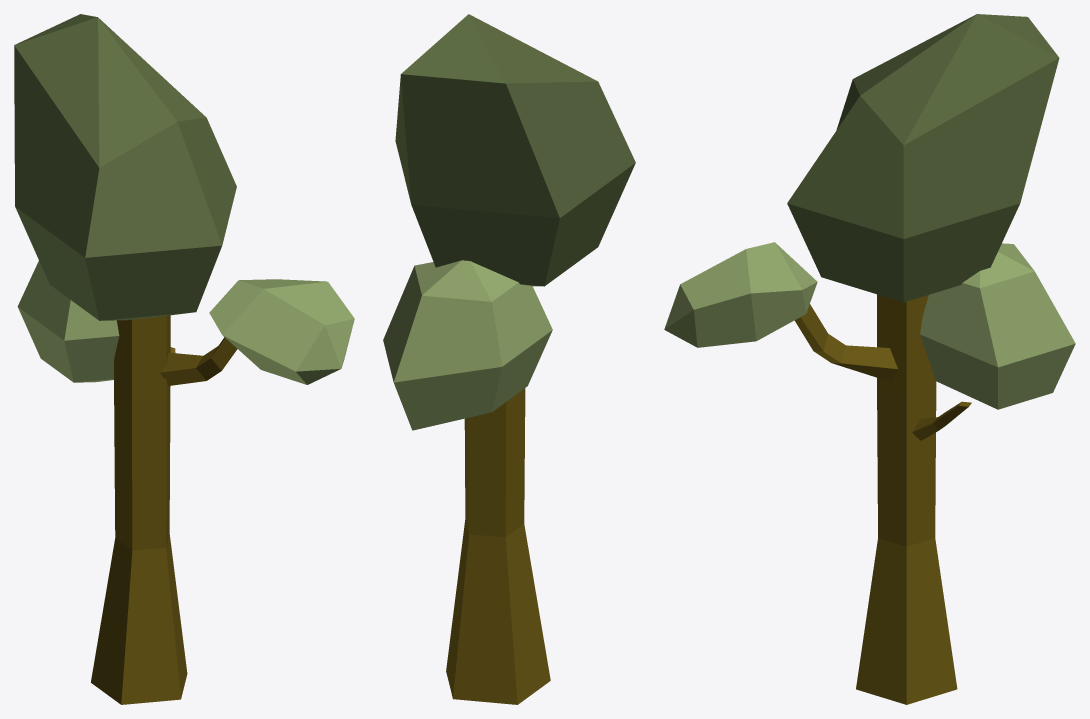
The model's file is Tree_01.fbx.
3 views of the same model, side by side, from view 1: azimuth 30°, elevation 25°; view 2: azimuth 150°, elevation 25°; view 3: azimuth 270°, elevation 25° (orthographic). The views are drawn at different scales.
Visible parts, largest first — view 1: pCylinder15; view 2: pCylinder15; view 3: pCylinder15.
Boxes of the visible parts, x1,y1,x2,y2 form: pCylinder15: [14, 14, 354, 704]; pCylinder15: [383, 14, 635, 704]; pCylinder15: [664, 14, 1075, 704].
Bounding box in the file's own units: 68.67 × 208 × 117.
